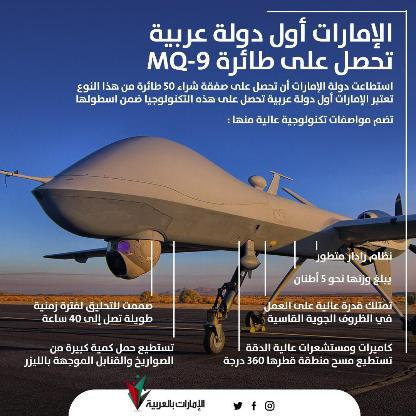MQ9: (0, 135, 416, 353)
